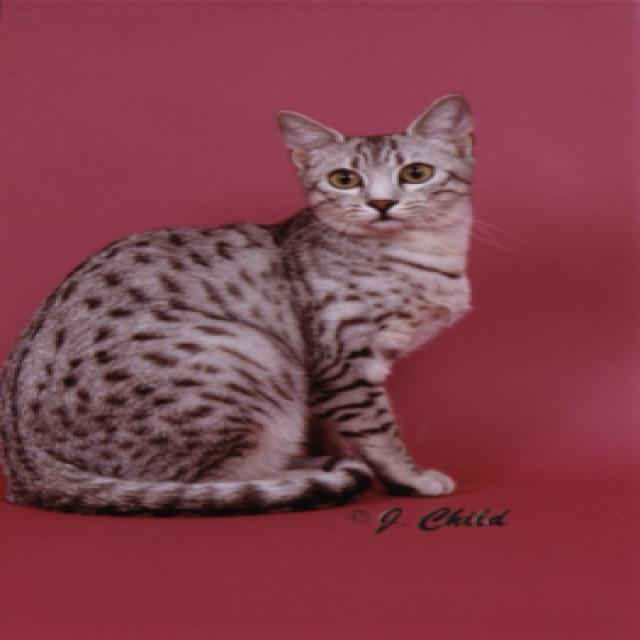cat: (273, 91, 472, 229)
